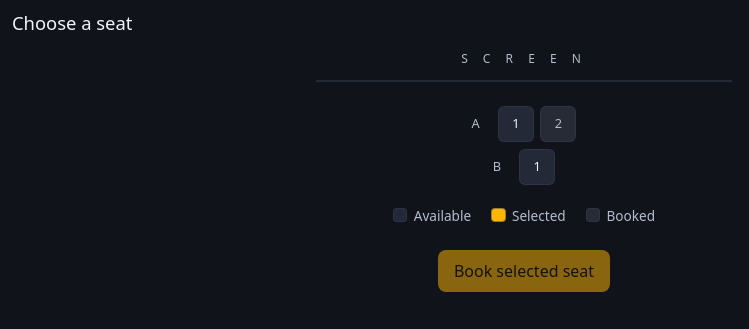
SeatMap › selecting the second seat replaces the first selected seat
What coordinates should you click on to do the following:
click the button named "row a, seat 1, available"
I would click on:
 (516, 124)
Its box is [498,106,534,142].
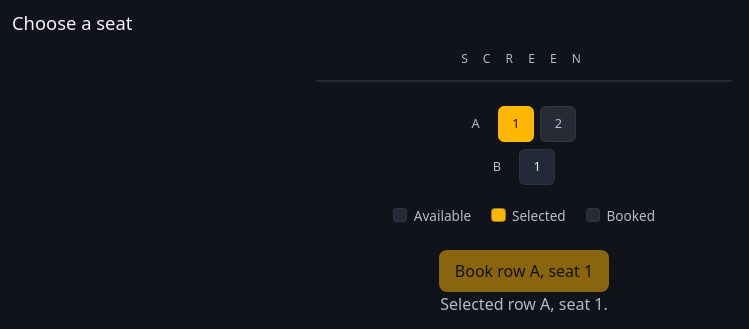
Expected: the button named "row a, seat 1, selected" is shown, [498,106,534,142]
What coordinates should you click on to do the following:
click the button named "row b, seat 1, available"
I would click on:
 (537, 166)
Its box is [519,148,555,184].
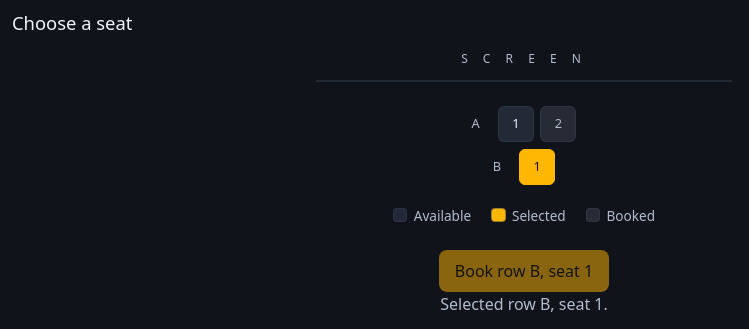
Expected: the button named "row b, seat 1, selected" is shown, [519,148,555,184]
Expected: the button named "row a, seat 1, available" is shown, [498,106,534,142]
